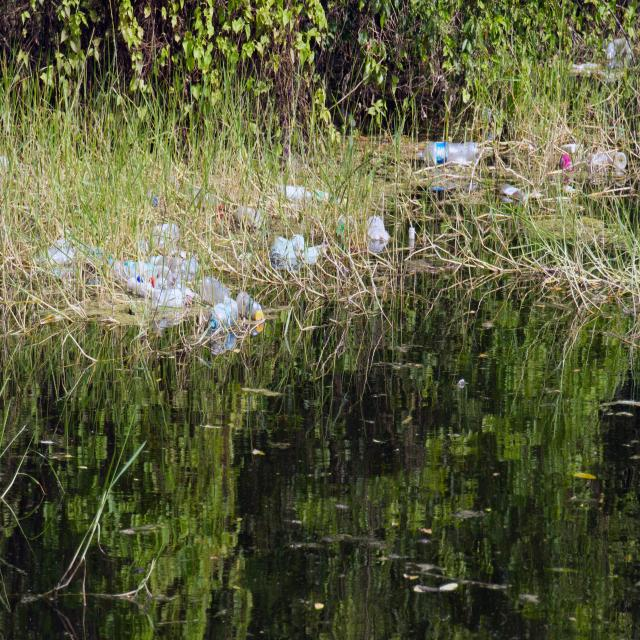plastic: (145, 268, 234, 338)
